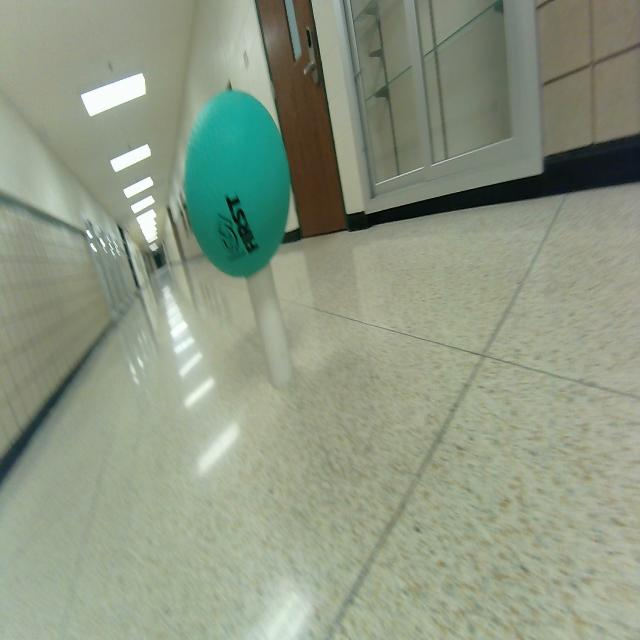algae: (177, 85, 292, 277)
coral: (242, 262, 292, 388)
